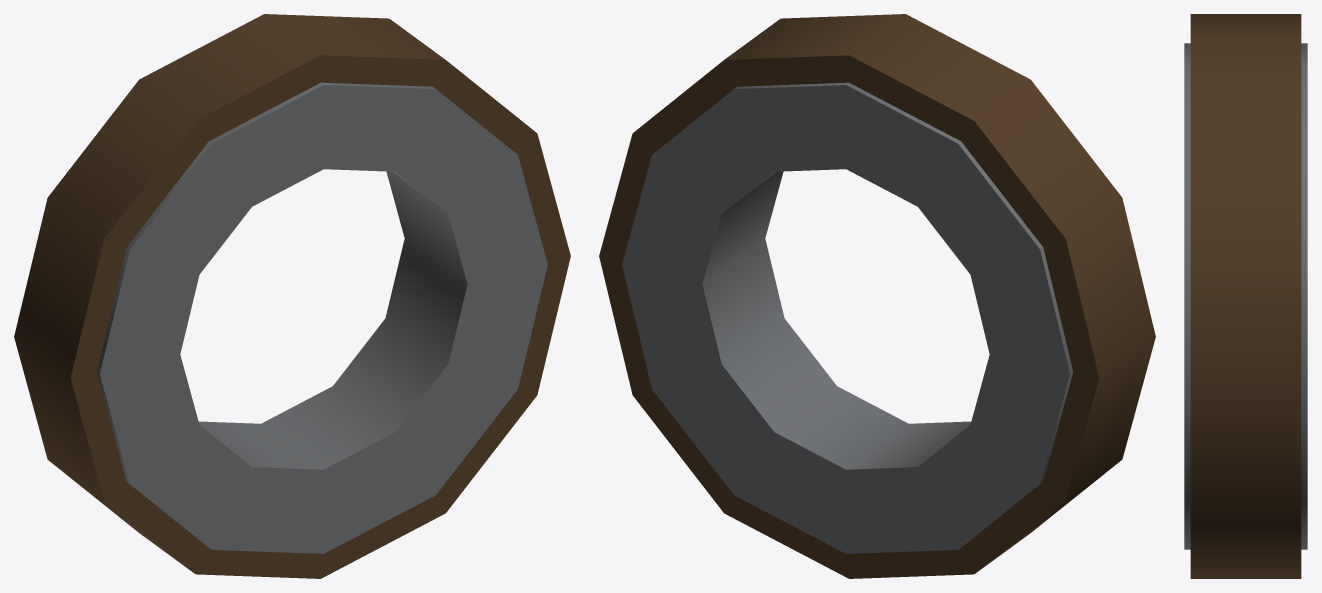
The model's file is u73l_coil_ring.obj.
3 views of the same model, side by side, from view 1: azimuth 30°, elevation 25°; view 2: azimuth 150°, elevation 25°; view 3: azimuth 270°, elevation 25° (orthographic).
Visible parts, largest first — view 1: u73l_coil_ring; view 2: u73l_coil_ring; view 3: u73l_coil_ring.
Boxes of the visible parts, bbox=[...] form: u73l_coil_ring: bbox=[14, 14, 570, 578]; u73l_coil_ring: bbox=[599, 14, 1155, 578]; u73l_coil_ring: bbox=[1184, 14, 1307, 578].
Bounding box in the file's own units: 4.6 × 4.6 × 1.
